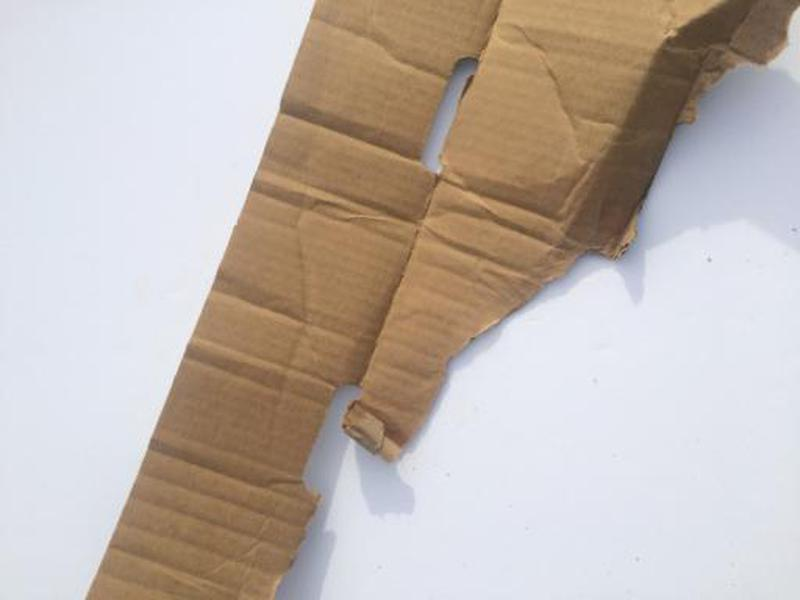cardboard: (80, 1, 800, 600)
